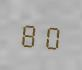eight: (19, 18, 39, 49)
zero: (40, 20, 60, 51)
